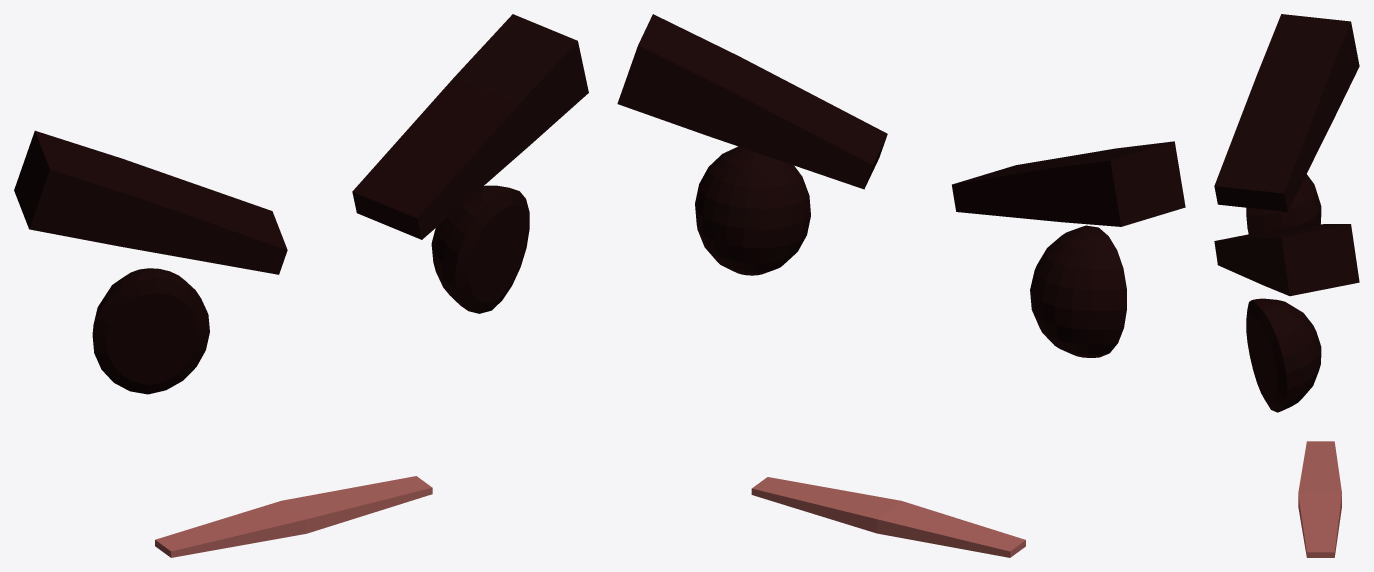
3 views of the same model, side by side, from view 1: azimuth 30°, elevation 25°; view 2: azimuth 150°, elevation 25°; view 3: azimuth 270°, elevation 25° (orthographic). The views are drawn at different scales.
Visible parts, largest first — view 1: brows2, eye right2, mouth2; view 2: brows2, eye right2, mouth2; view 3: brows2, eye right2, mouth2.
Boxes of the visible parts, box(x1,y1,x2,y2) form: brows2: box(14, 14, 588, 274); eye right2: box(92, 185, 529, 394); mouth2: box(155, 476, 432, 557); brows2: box(617, 14, 1185, 226); eye right2: box(695, 146, 1126, 357); mouth2: box(751, 477, 1025, 557); brows2: box(1214, 14, 1359, 296); eye right2: box(1246, 174, 1321, 412); mouth2: box(1298, 441, 1341, 557).
Bounding box in the file's own units: 67.93 × 50.99 × 17.57.
